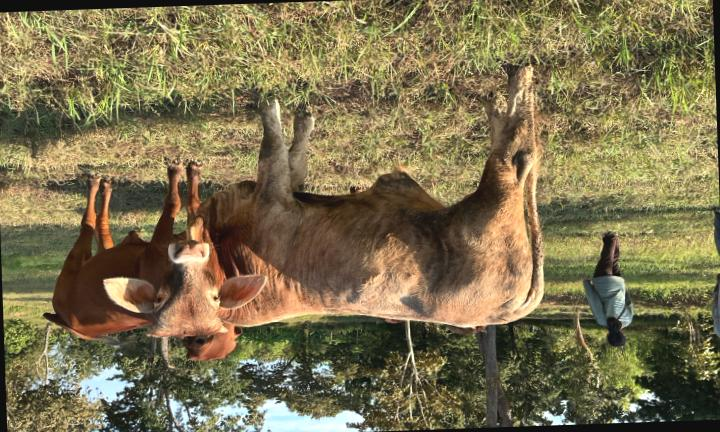Charolais: (102, 67, 544, 337)
